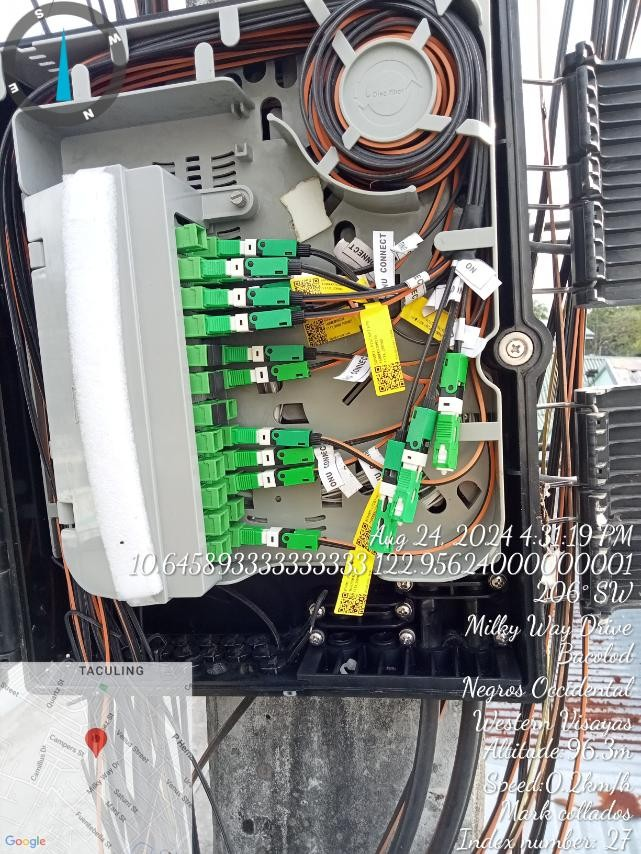no dust cap: (195, 223, 208, 248), (221, 537, 232, 561), (220, 510, 230, 536), (212, 429, 223, 452), (235, 498, 245, 521), (218, 484, 227, 508), (216, 456, 225, 480), (227, 399, 238, 418)
occupied: (206, 308, 311, 336), (227, 360, 321, 389), (238, 463, 323, 493), (232, 426, 329, 451), (221, 260, 310, 285), (219, 238, 319, 260), (202, 258, 305, 279), (200, 287, 307, 307), (242, 529, 327, 553), (219, 289, 315, 310), (232, 311, 317, 333), (235, 447, 324, 468), (224, 345, 323, 363)
vacant: (208, 344, 223, 367), (212, 402, 227, 425), (211, 371, 225, 395)
